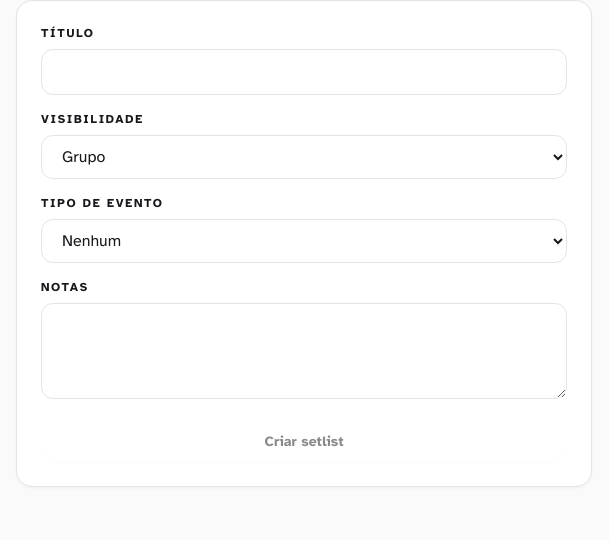
SetlistForm › renders Alert when create fails
This screenshot has width=609, height=540.
In the field labelled "Título": (304, 72) [41,49,567,95], type "Novo culto"
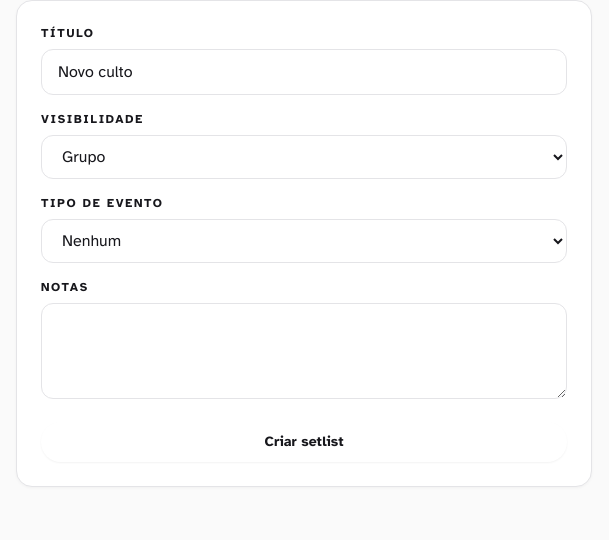
Click the button "Criar setlist": (304, 442) [41,422,567,462]
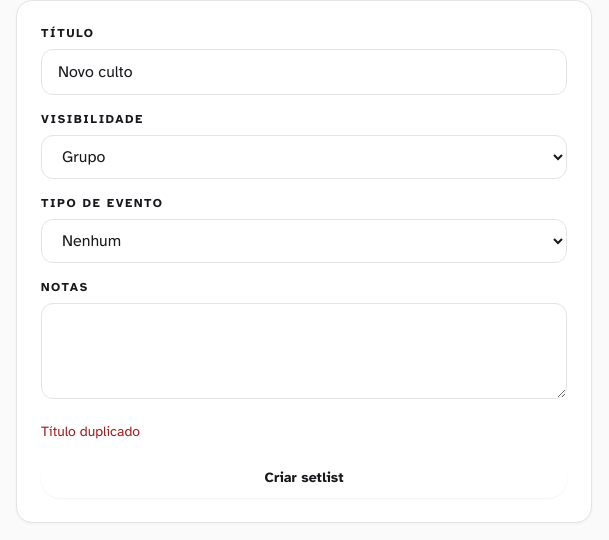
Check: the message reads "Título duplicado", box [41,423,140,440]
